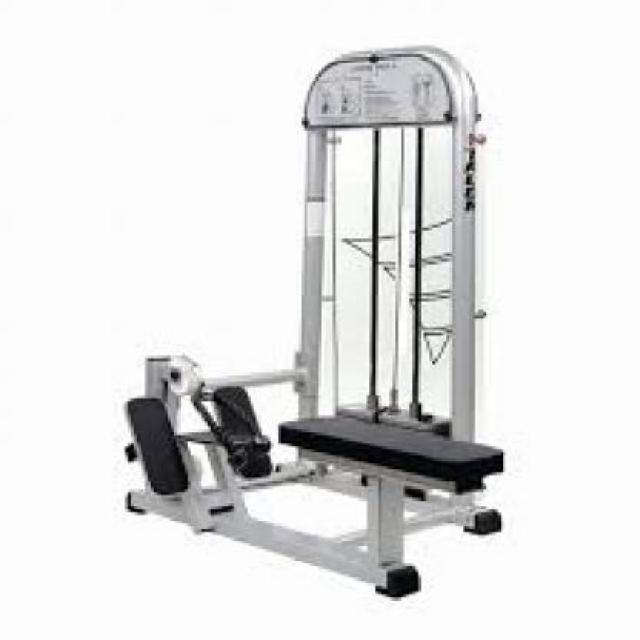Seated Cable Rows: (112, 37, 514, 608)
